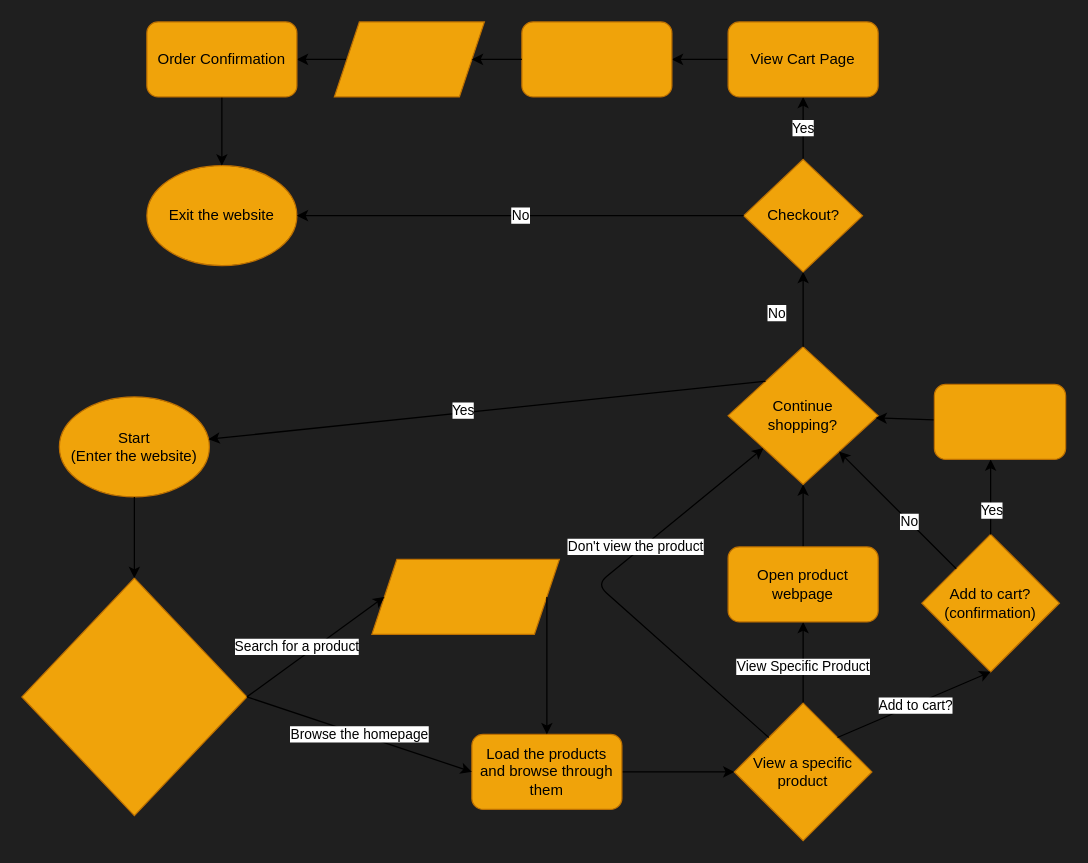
This 1088x863 diagram has some shape labels left out. Here are the shapes that lost their labels. From the top down, the box of each, then its label:
(333, 21, 484, 97): Payment Info
(521, 21, 672, 97): View Payment Page
(933, 383, 1066, 459): Confirmation page
(371, 558, 559, 634): Input (Searching for which product?)
(21, 577, 247, 816): Search for a product or Browse the homepage?
